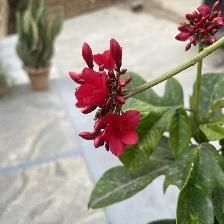jatropha: (98, 111, 145, 158), (73, 70, 111, 109)
